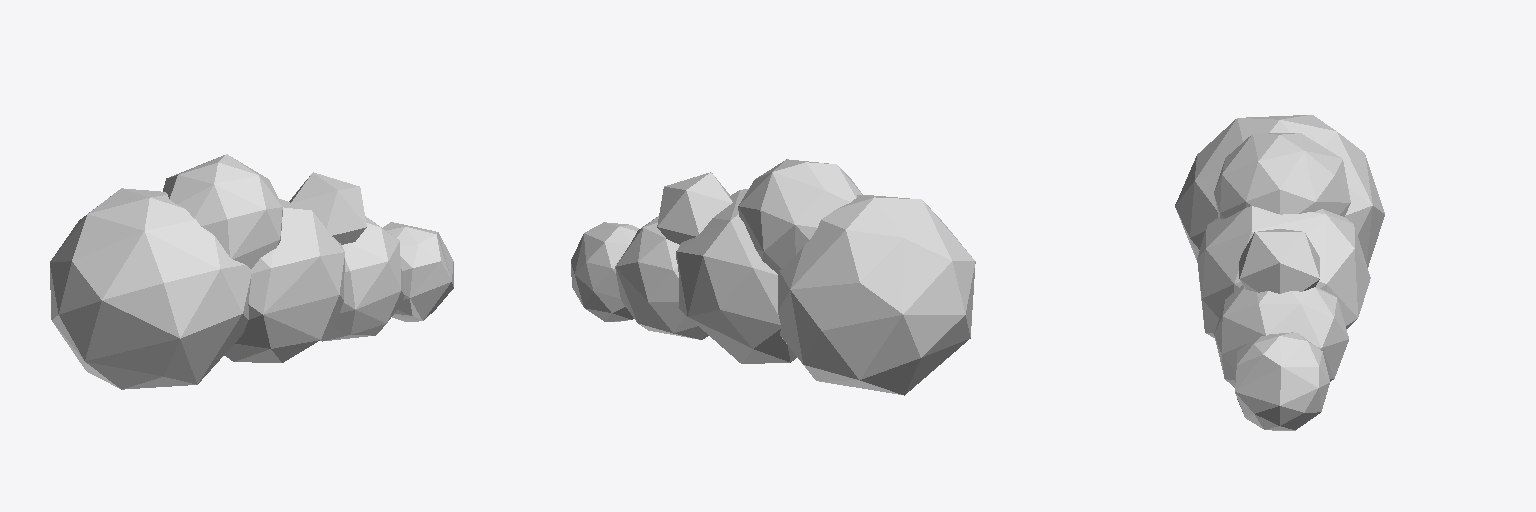
3 renders of one model, left to right at view 1: azimuth 30°, elevation 25°; view 2: azimuth 150°, elevation 25°; view 3: azimuth 270°, elevation 25°, orthographic.
Visible parts, largest first — view 1: Clouds_02_Untitled.002; view 2: Clouds_02_Untitled.002; view 3: Clouds_02_Untitled.002.
Boxes of the visible parts, x1,y1,x2,y2 form: Clouds_02_Untitled.002: [50, 154, 453, 389]; Clouds_02_Untitled.002: [571, 159, 975, 395]; Clouds_02_Untitled.002: [1175, 115, 1384, 430].
Bounding box in the file's own units: 1.72 × 0.8575 × 0.7951.
1 materials, 1 textured.